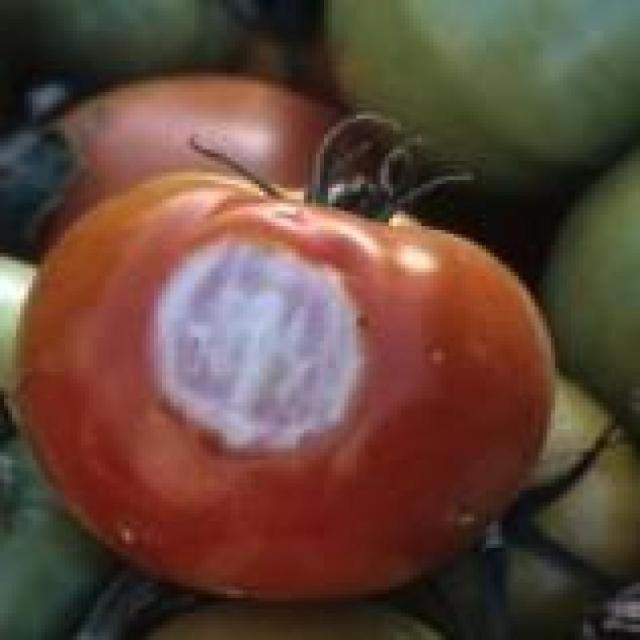Sunscald Fruit: (93, 151, 244, 309)
